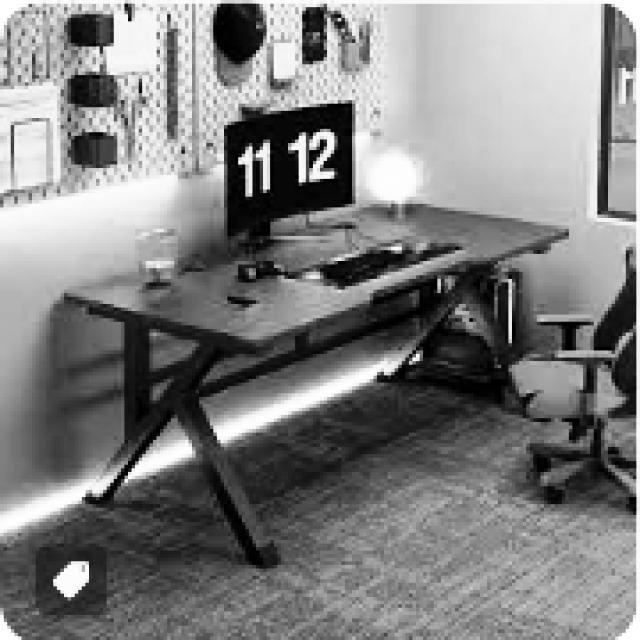table: (60, 197, 569, 565)
